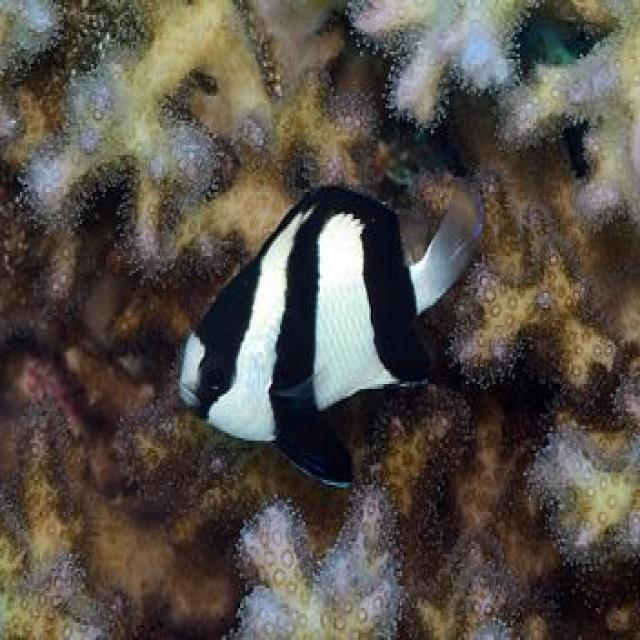Three_striped DasmselFish: (173, 184, 480, 486)
